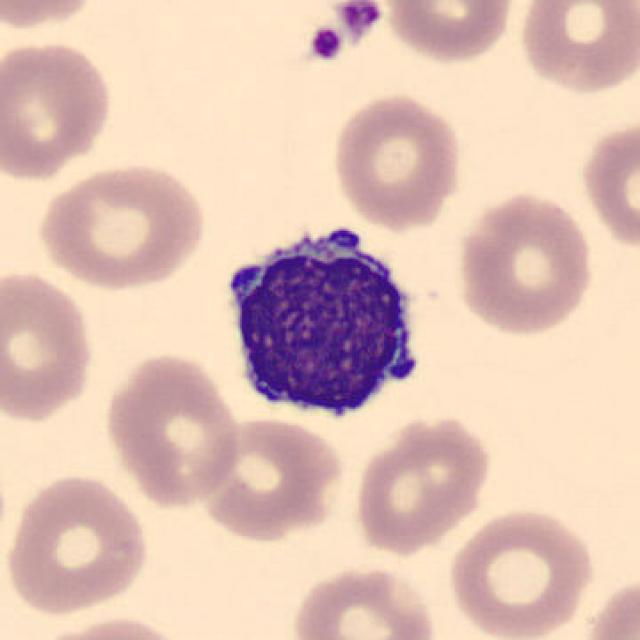Lymphocyte: (212, 208, 432, 427)
Platelets: (334, 0, 386, 41), (306, 25, 346, 65)
RBC: (32, 159, 212, 291), (100, 348, 243, 512), (2, 469, 153, 619), (452, 187, 598, 338), (350, 411, 496, 557), (444, 502, 598, 640), (194, 413, 348, 543), (327, 90, 466, 231), (0, 35, 119, 184), (0, 266, 98, 427), (514, 0, 638, 99), (288, 562, 441, 640), (380, 0, 518, 65), (576, 114, 638, 256), (21, 612, 194, 640), (580, 569, 638, 640), (0, 0, 106, 35)
